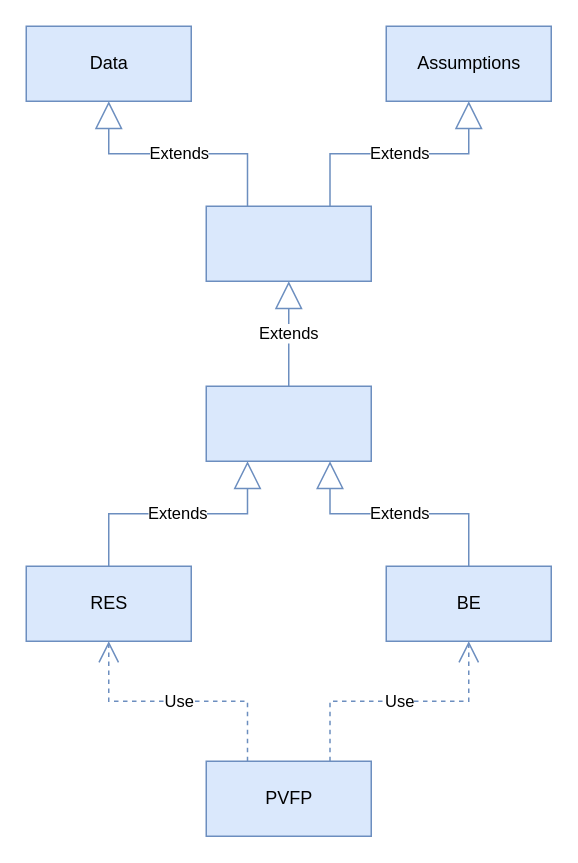
The diagram is 578 pixels wide and 863 high, and some of its shapes have lost their labels. Each missing label, with the centre of its shape:
Cashflows: (288,423)
Probabilities: (288,243)
